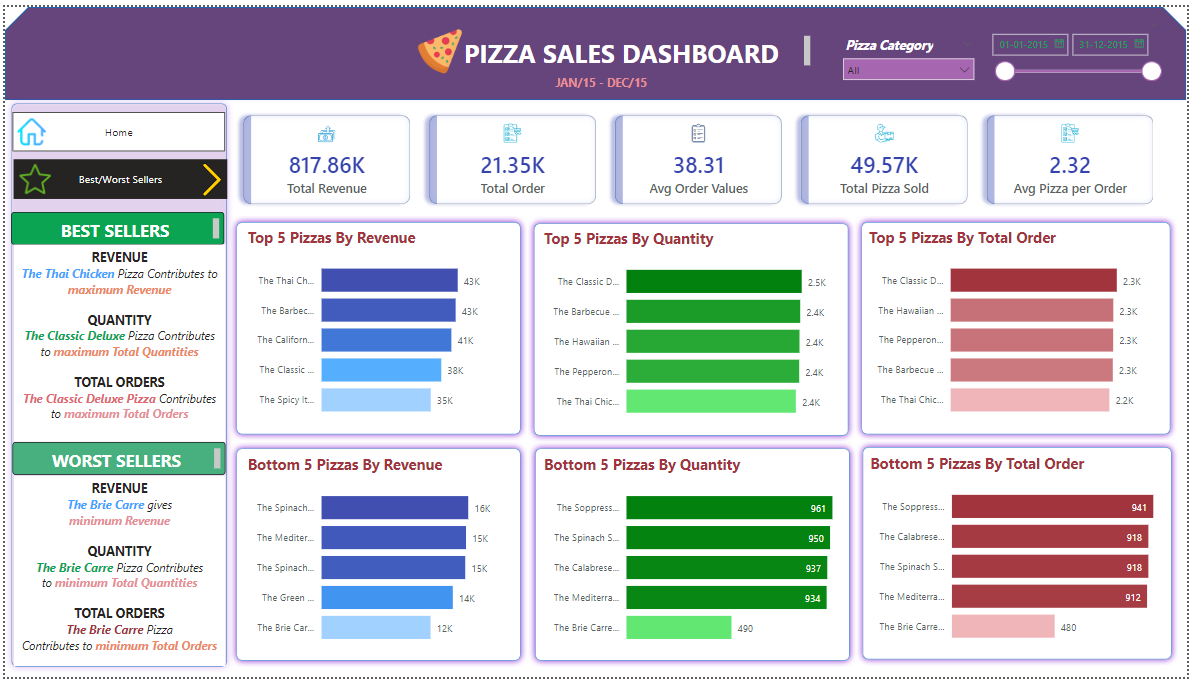

What the dashboard file says about the page in this screenshot:
{"tool":"powerbi","page":{"name":"Best/Worst Sellers","canvas":[1500,850],"ordinal":1},"visuals":[{"type":"cardVisual","fields":{"Data":["pizza_sales.Total Revenue","pizza_sales.Total Order","pizza_sales.Avg Order Values","pizza_sales.Total Pizza Sold","pizza_sales.Avg Pizza per Order"]},"box":[285.7,120,1177.1,147.1],"z":0},{"type":"shape","box":[0,0,1500,118.3],"z":1000},{"type":"textbox","box":[578.3,31.7,450,50],"z":2000},{"type":"image","box":[506.7,21.7,91.7,68.3],"z":3000},{"type":"textbox","box":[693.3,81.7,136.7,36.7],"z":4000},{"type":"shape","box":[285.7,265.7,377.1,285.7],"z":5000},{"type":"shape","box":[0,114.3,290,731.4],"z":6000},{"type":"textbox","box":[8.6,260,270,41.4],"z":7000},{"type":"textbox","box":[11.4,301.4,268.6,250],"z":8000},{"type":"textbox","box":[10,552.9,270,41.4],"z":9000},{"type":"slicer","fields":{"Values":["pizza_sales.pizza_category"]},"box":[1054.3,31.4,187.1,68.6],"z":10000},{"type":"slicer","fields":{"Values":["pizza_sales.order_date"]},"box":[1241.4,15.7,235.7,101.4],"z":11000},{"type":"shape","box":[1078.6,265.7,408.6,285.7],"z":12000},{"type":"shape","box":[662.9,267.1,415.7,285.7],"z":13000},{"type":"shape","box":[285.7,552.9,377.1,285.7],"z":14000},{"type":"shape","box":[665.7,552.9,415.7,285.7],"z":15000},{"type":"shape","box":[1081.4,551.4,408.6,285.7],"z":16000},{"type":"barChart","title":"Top 5 Pizzas  By Revenue","fields":{"Category":["pizza_sales.pizza_name"],"Y":["pizza_sales.Total Revenue"]},"box":[302.9,280,342.9,255.7],"z":17000},{"type":"barChart","title":"Bottom 5 Pizzas  By Revenue","fields":{"Category":["pizza_sales.pizza_name"],"Y":["pizza_sales.Total Revenue"]},"box":[302.9,568.6,342.9,255.7],"z":18000},{"type":"barChart","title":"Top 5 Pizzas  By Quantity","fields":{"Category":["pizza_sales.pizza_name"],"Y":["pizza_sales.Total Pizza Sold"]},"box":[680,281.4,387.1,255.7],"z":19000},{"type":"barChart","title":"Top 5 Pizzas  By Total Order","fields":{"Category":["pizza_sales.pizza_name"],"Y":["pizza_sales.Total Order"]},"box":[1091.4,280,385.7,255.7],"z":20000},{"type":"barChart","title":"Bottom 5 Pizzas  By Quantity","fields":{"Category":["pizza_sales.pizza_name"],"Y":["pizza_sales.Total Pizza Sold"]},"box":[680,568.6,387.1,255.7],"z":21000},{"type":"barChart","title":"Bottom 5 Pizzas  By Total Order","fields":{"Category":["pizza_sales.pizza_name"],"Y":["pizza_sales.Total Order"]},"box":[1092.9,567.1,385.7,255.7],"z":22000},{"type":"textbox","box":[11.4,595.7,268.6,241.4],"z":23000},{"type":"pageNavigator","box":[11.4,194.3,271.4,50],"z":24000},{"type":"pageNavigator","box":[10,132.9,270,50],"z":25000},{"type":"image","box":[237.1,192.9,52.9,51.4],"z":26000},{"type":"image","box":[11.4,132.9,45.7,50],"z":27000},{"type":"image","box":[11.4,194.3,54.3,50],"z":28000}]}

Visuals, with their boxes in screenshot pixels (x1, y1, x2, y2), scaled from the page's 1500x850 canvas onto the 1197x687 screenshot:
cardVisual - pizza_sales.Total Revenue x pizza_sales.Total Order: select_region(228, 97, 1167, 216)
shape: select_region(0, 0, 1196, 96)
textbox: select_region(461, 26, 821, 66)
image: select_region(404, 18, 478, 73)
textbox: select_region(553, 66, 662, 96)
shape: select_region(228, 215, 529, 446)
shape: select_region(0, 92, 231, 684)
textbox: select_region(7, 210, 222, 244)
textbox: select_region(9, 244, 223, 446)
textbox: select_region(8, 447, 223, 480)
slicer - pizza_sales.pizza_category: select_region(841, 25, 991, 81)
slicer - pizza_sales.order_date: select_region(991, 13, 1179, 95)
shape: select_region(861, 215, 1187, 446)
shape: select_region(529, 216, 861, 447)
shape: select_region(228, 447, 529, 678)
shape: select_region(531, 447, 863, 678)
shape: select_region(863, 446, 1189, 677)
"Top 5 Pizzas  By Revenue" barChart: select_region(242, 226, 515, 433)
"Bottom 5 Pizzas  By Revenue" barChart: select_region(242, 460, 515, 666)
"Top 5 Pizzas  By Quantity" barChart: select_region(543, 227, 852, 434)
"Top 5 Pizzas  By Total Order" barChart: select_region(871, 226, 1179, 433)
"Bottom 5 Pizzas  By Quantity" barChart: select_region(543, 460, 852, 666)
"Bottom 5 Pizzas  By Total Order" barChart: select_region(872, 458, 1180, 665)
textbox: select_region(9, 481, 223, 677)
pageNavigator: select_region(9, 157, 226, 197)
pageNavigator: select_region(8, 107, 223, 148)
image: select_region(189, 156, 231, 197)
image: select_region(9, 107, 46, 148)
image: select_region(9, 157, 52, 197)
